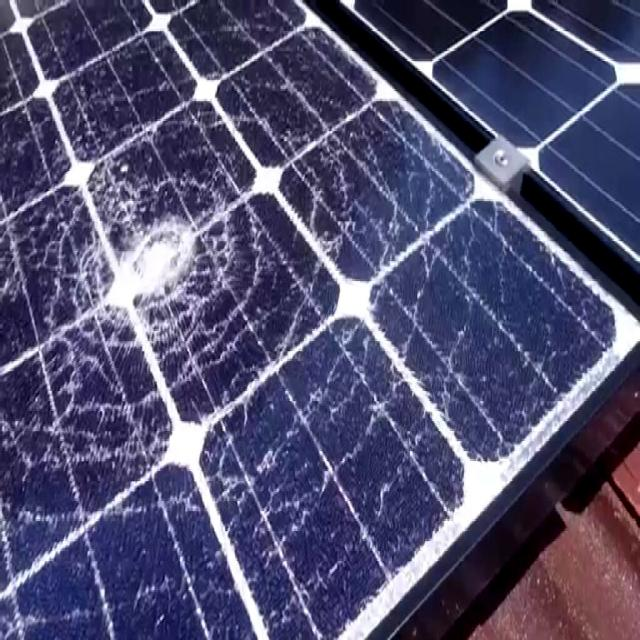hotspot: (88, 157, 226, 337)
